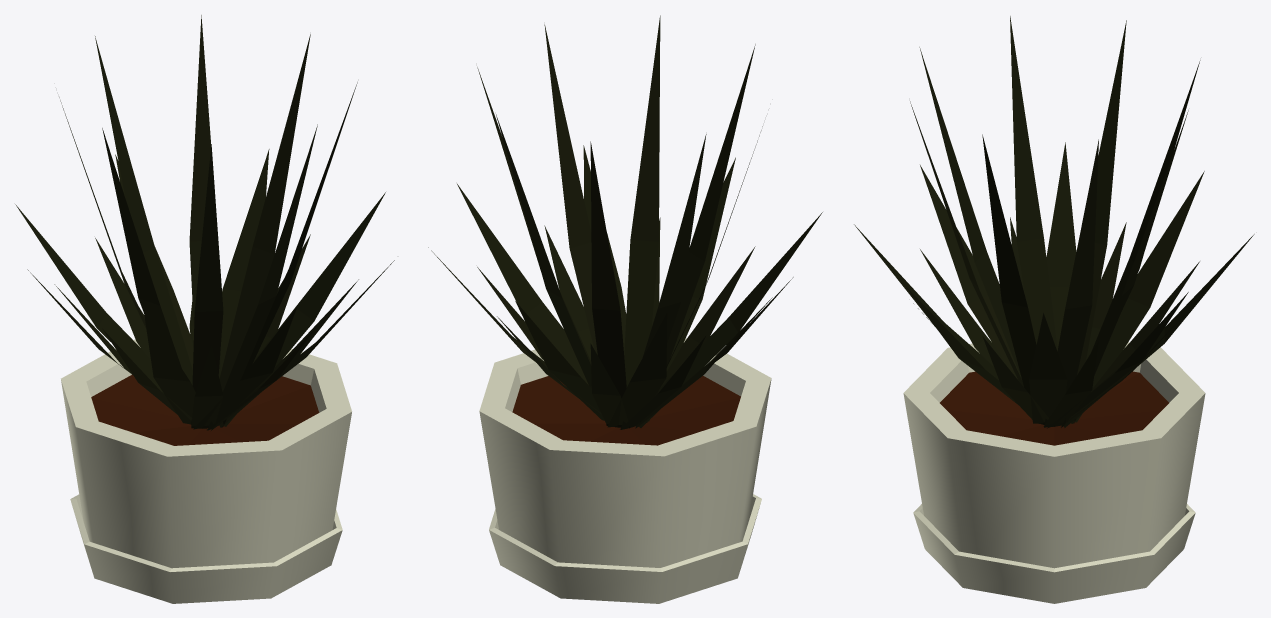
Rendered from SmallPlant_shattered.fbx.
The picture shows the model from 3 angles, left to right: view 1: azimuth 30°, elevation 25°; view 2: azimuth 150°, elevation 25°; view 3: azimuth 270°, elevation 25°; orthographic projection.
Parts seen in each view (by area): view 1: Cylinder004, Plane026, Plane021, Plane024, Plane025, Plane028, Plane010, Plane011, Plane022, Plane008, Plane006, Plane005 (+8 smaller); view 2: Cylinder004, Plane028, Plane024, Plane027, Plane021, Plane011, Plane023, Plane006, Plane008, Plane025, Plane009, Plane013 (+7 smaller); view 3: Cylinder004, Plane022, Plane026, Plane027, Plane008, Plane023, Plane007, Plane021, Plane006, Plane011, Plane024, Plane025 (+9 smaller).
Boxes of the visible parts, x1,y1,x2,y2 form: Cylinder004: [61, 260, 394, 603]; Plane026: [219, 34, 310, 391]; Plane021: [191, 144, 223, 428]; Plane024: [95, 36, 192, 385]; Plane025: [189, 15, 220, 378]; Plane028: [207, 124, 317, 430]; Plane010: [220, 149, 269, 371]; Plane011: [223, 192, 385, 426]; Plane022: [102, 128, 202, 428]; Plane008: [15, 204, 163, 393]; Plane006: [143, 311, 195, 424]; Plane005: [193, 306, 297, 429]; Cylinder004: [479, 145, 771, 603]; Plane028: [624, 15, 660, 387]; Plane024: [590, 141, 629, 428]; Plane027: [544, 24, 597, 354]; Plane021: [647, 44, 755, 422]; Plane011: [457, 184, 588, 384]; Plane023: [620, 134, 706, 429]; Plane006: [638, 212, 822, 427]; Plane008: [607, 312, 667, 427]; Plane025: [496, 114, 617, 427]; Plane009: [515, 301, 604, 420]; Plane013: [660, 246, 755, 387]; Cylinder004: [903, 286, 1205, 603]; Plane022: [1010, 16, 1057, 351]; Plane026: [1044, 139, 1098, 427]; Plane027: [982, 134, 1054, 426]; Plane008: [1075, 171, 1204, 422]; Plane023: [1077, 20, 1126, 374]; Plane007: [1046, 142, 1076, 349]; Plane021: [919, 47, 1021, 378]; Plane006: [920, 165, 1020, 379]; Plane011: [1029, 313, 1067, 423]; Plane024: [1073, 60, 1200, 423]; Plane025: [1061, 110, 1188, 427].
Bounding box in the file's own units: 64.1 × 82.82 × 64.1.
